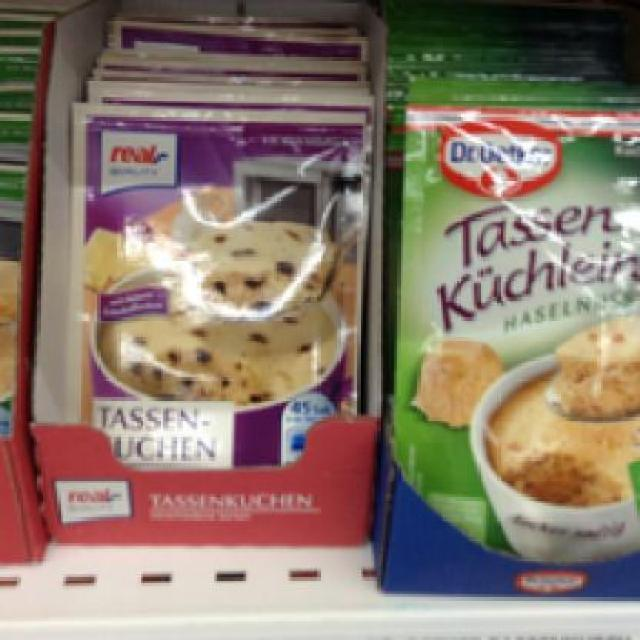Cake: (62, 94, 372, 486), (394, 70, 637, 564)
